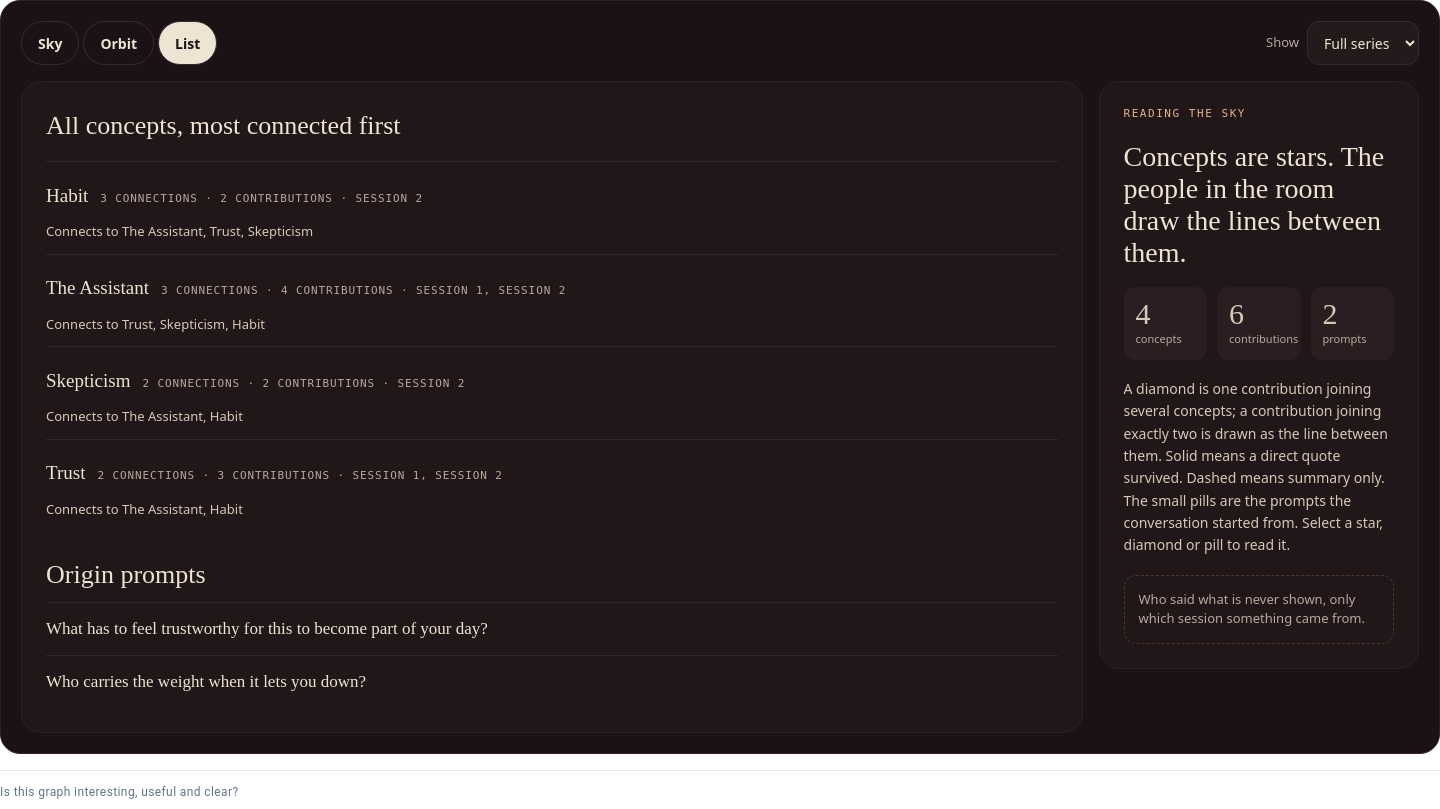
Test: List › says there is nothing to list when the chosen session has no concept yet
The width and height of the screenshot is (1440, 809).
Select "Session 3" in the dropdown labelled "Show" at (1363, 43), box [1307,21,1419,65]
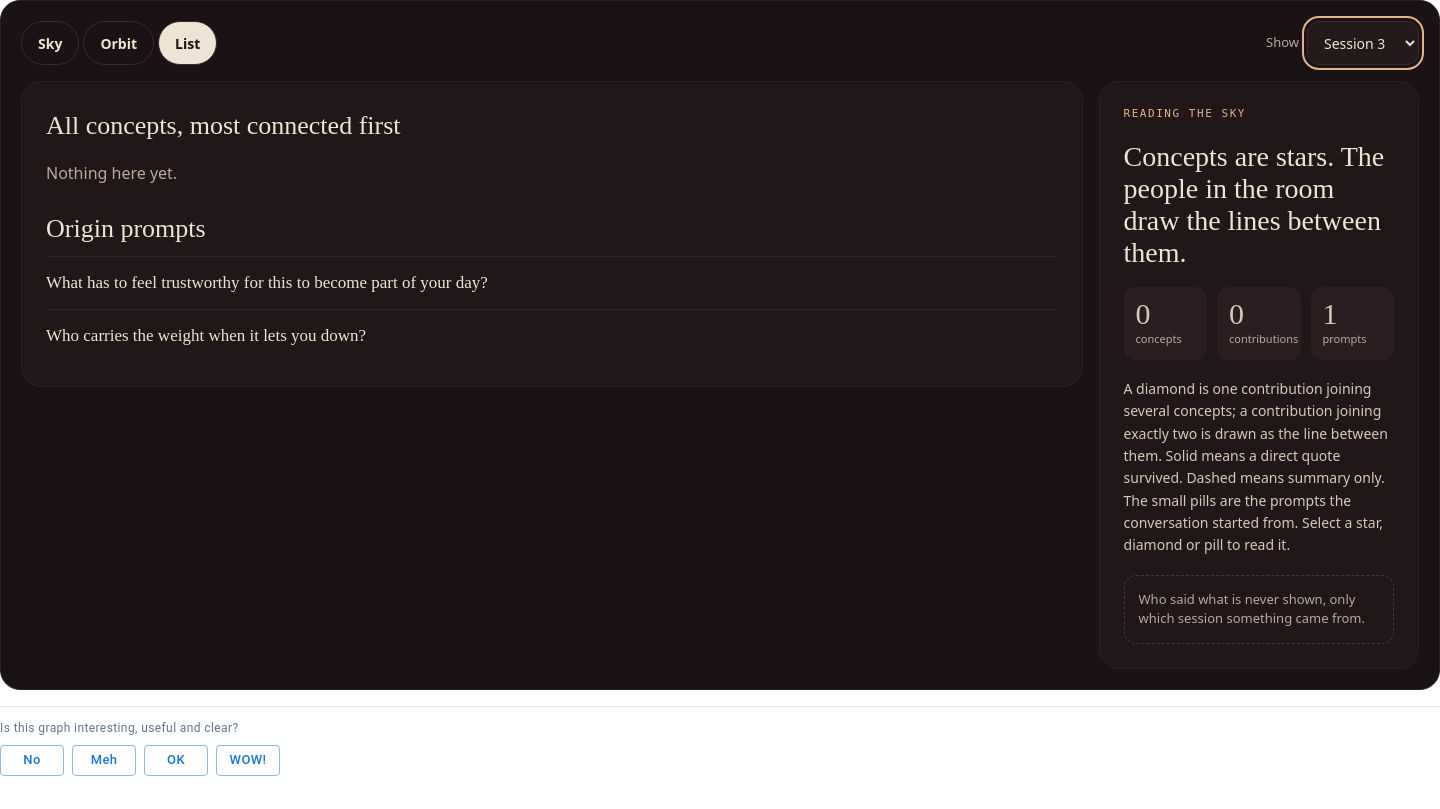
expect the text "Nothing here yet." is shown: met, box [46,162,177,184]
expect the list is gone: met
